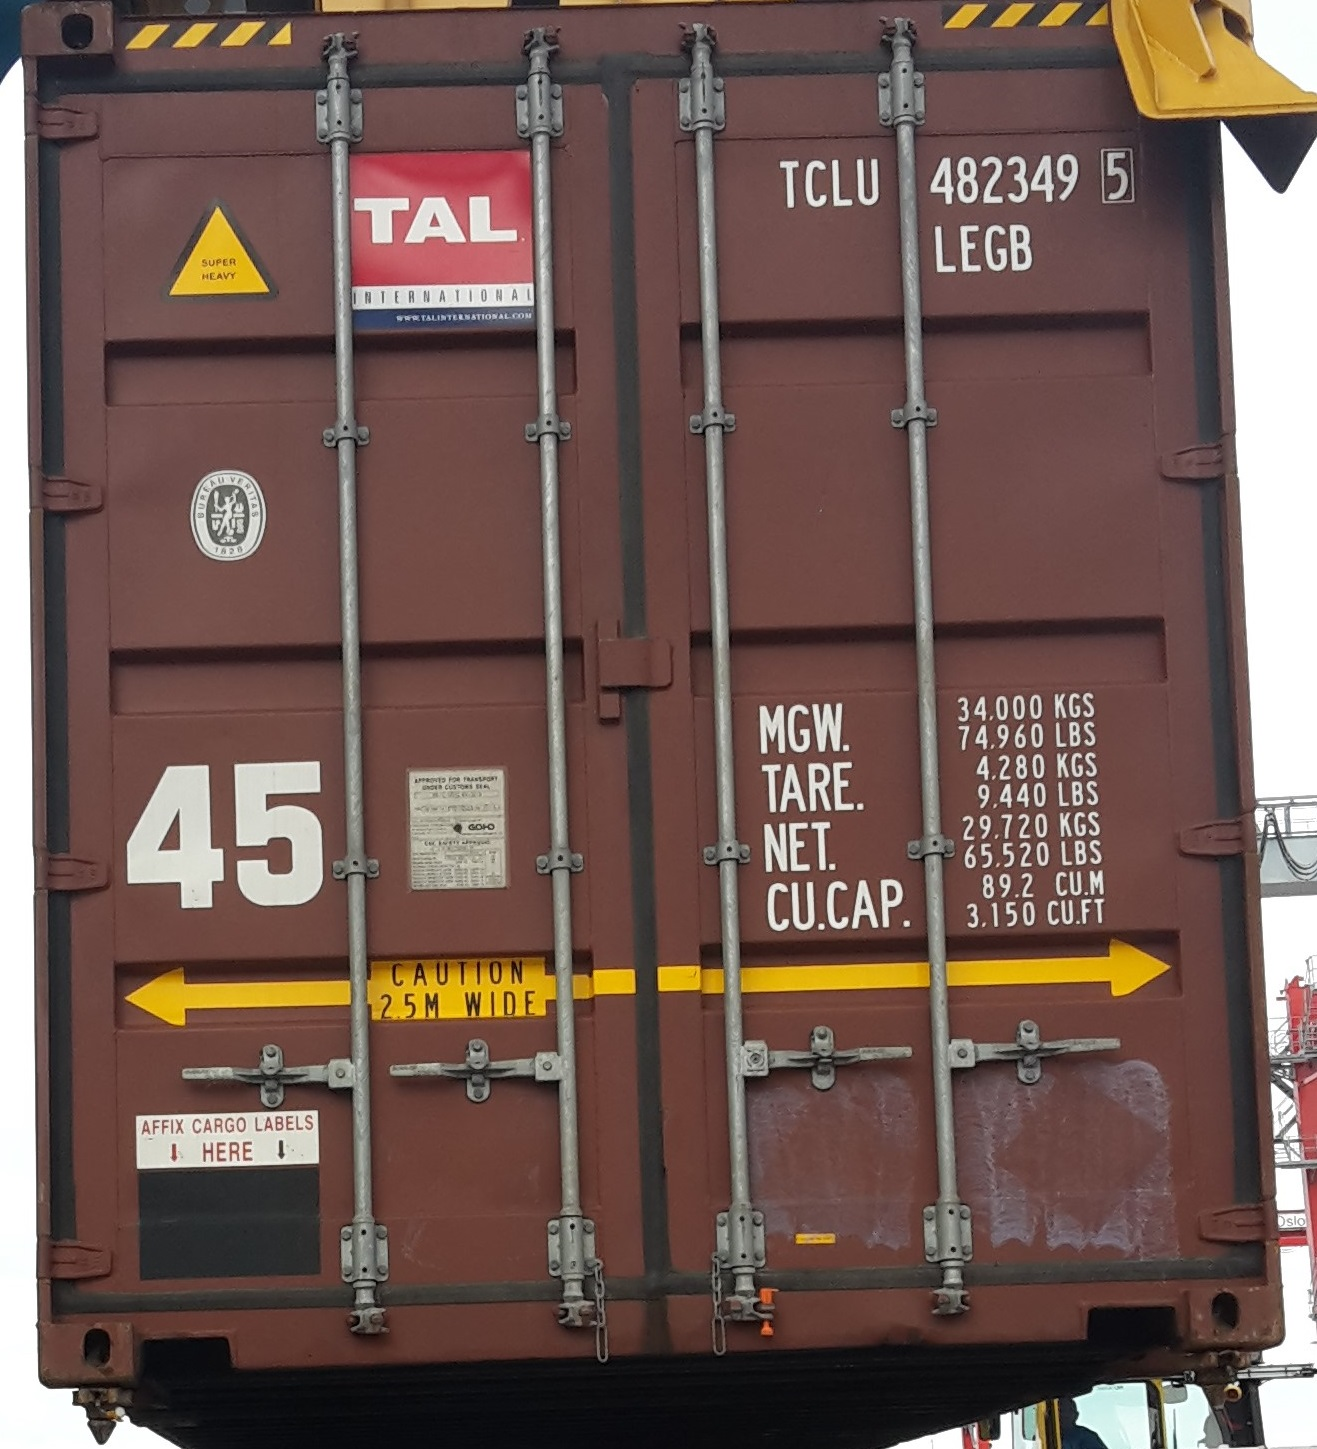container_door: (32, 1, 1251, 1388)
twist_lock_1: (58, 1368, 144, 1449)
